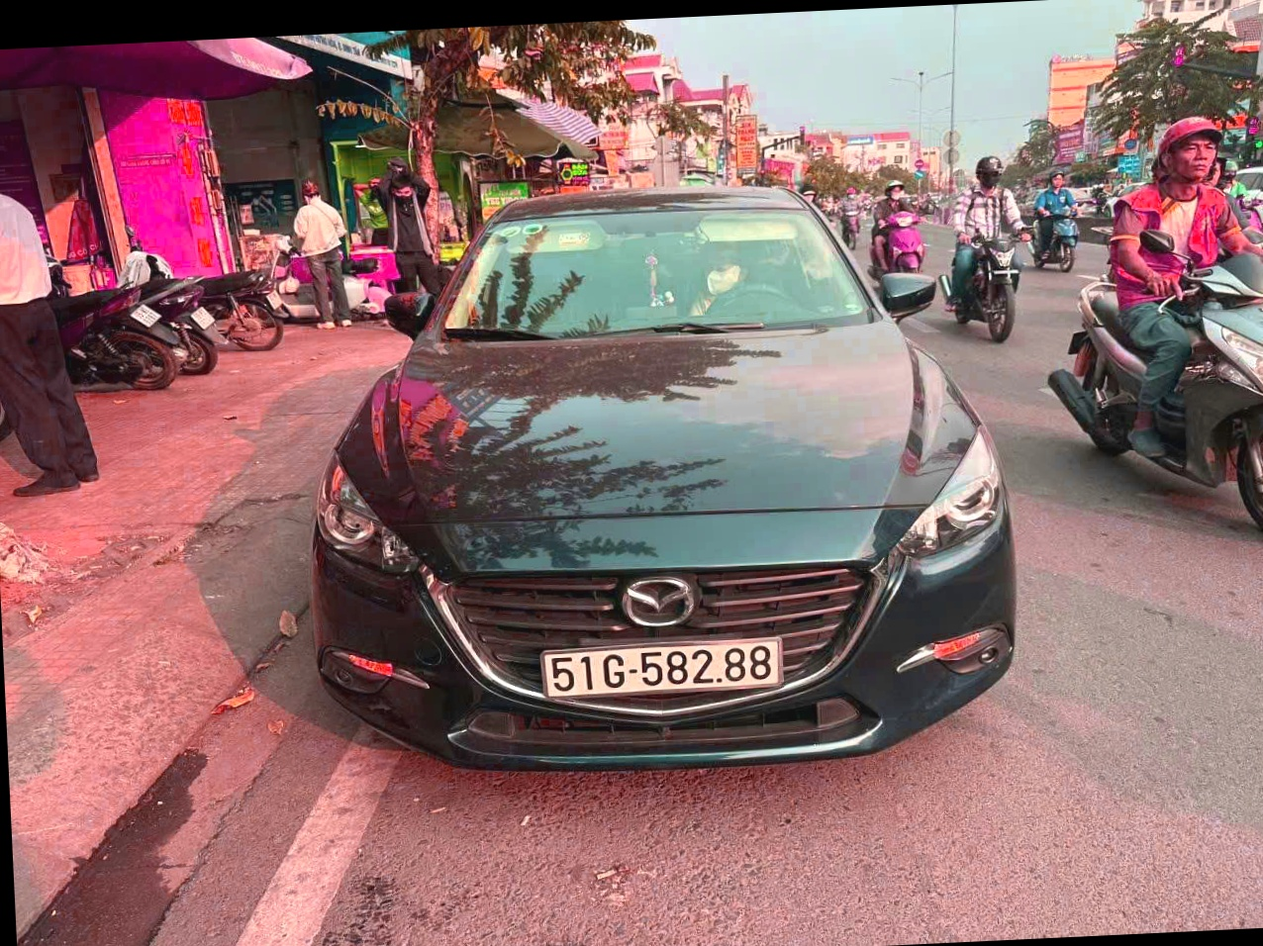Bien-so: (503, 648, 737, 719)
